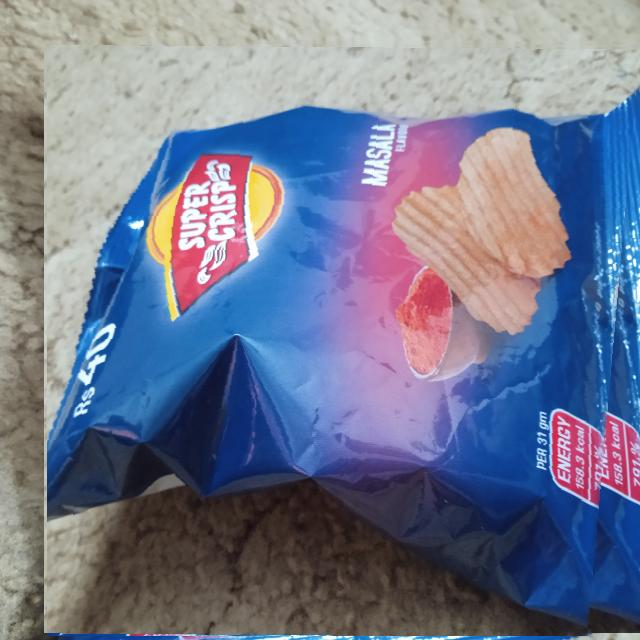Plastic: (47, 40, 640, 636)
